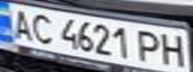1: (109, 24, 133, 61)
2: (90, 21, 112, 56)
4: (54, 16, 78, 51)
6: (75, 19, 96, 53)
A: (6, 7, 39, 40)
C: (27, 11, 60, 45)
H: (157, 30, 190, 68)
P: (133, 28, 163, 64)
